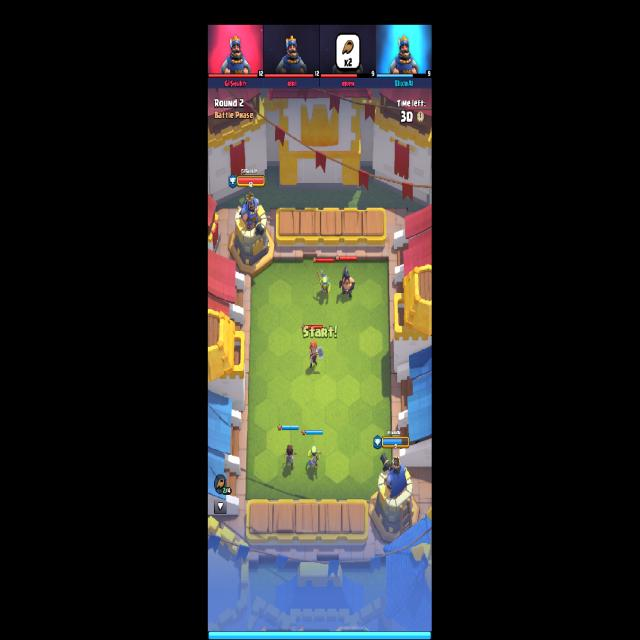executioner: (339, 266, 356, 298)
princess: (284, 444, 297, 470)
spear_goblin: (316, 270, 331, 296), (308, 446, 322, 470)
valkyrie: (310, 341, 324, 370)
